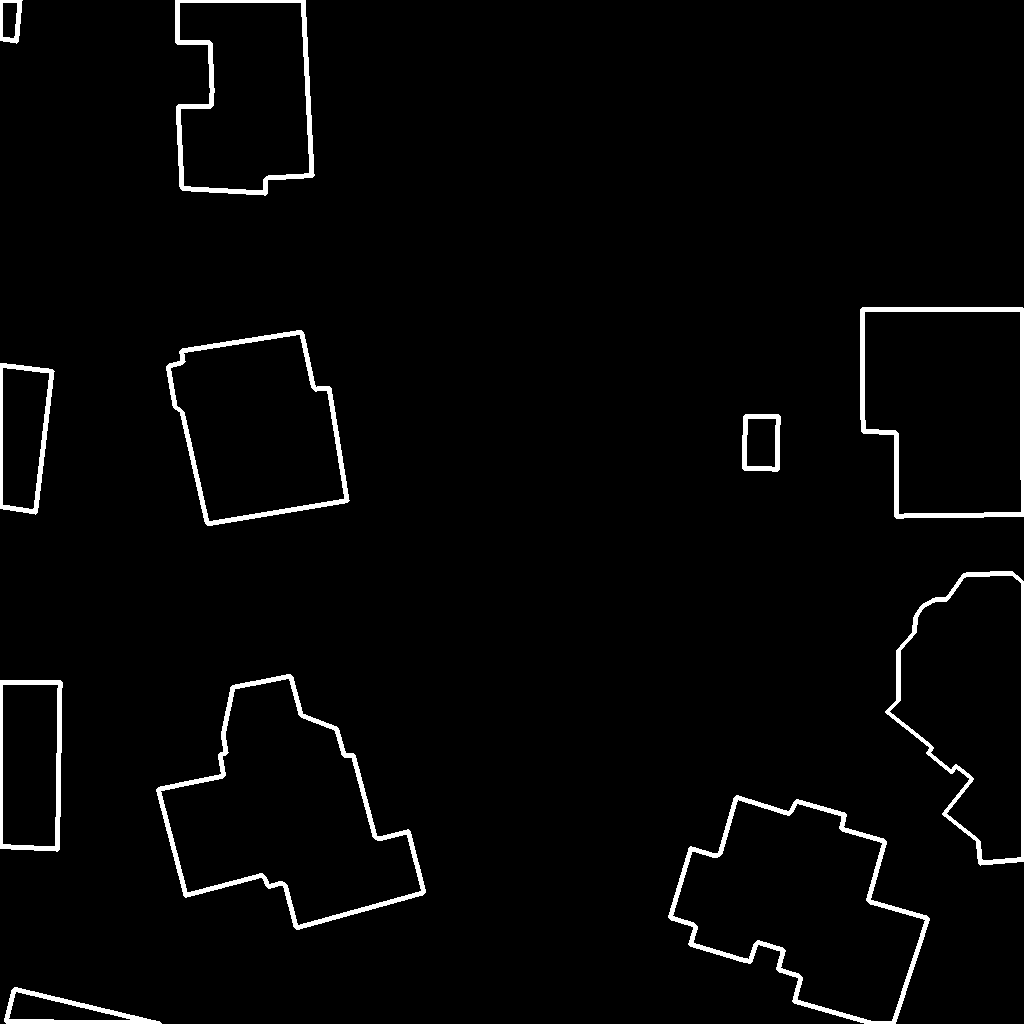building: (158, 676, 425, 929), (670, 797, 929, 1024), (887, 573, 1024, 864), (168, 332, 348, 525), (862, 309, 1024, 517), (177, 0, 313, 194), (0, 682, 61, 850), (0, 365, 53, 513), (6, 989, 161, 1024), (744, 416, 779, 470), (0, 0, 21, 42)
